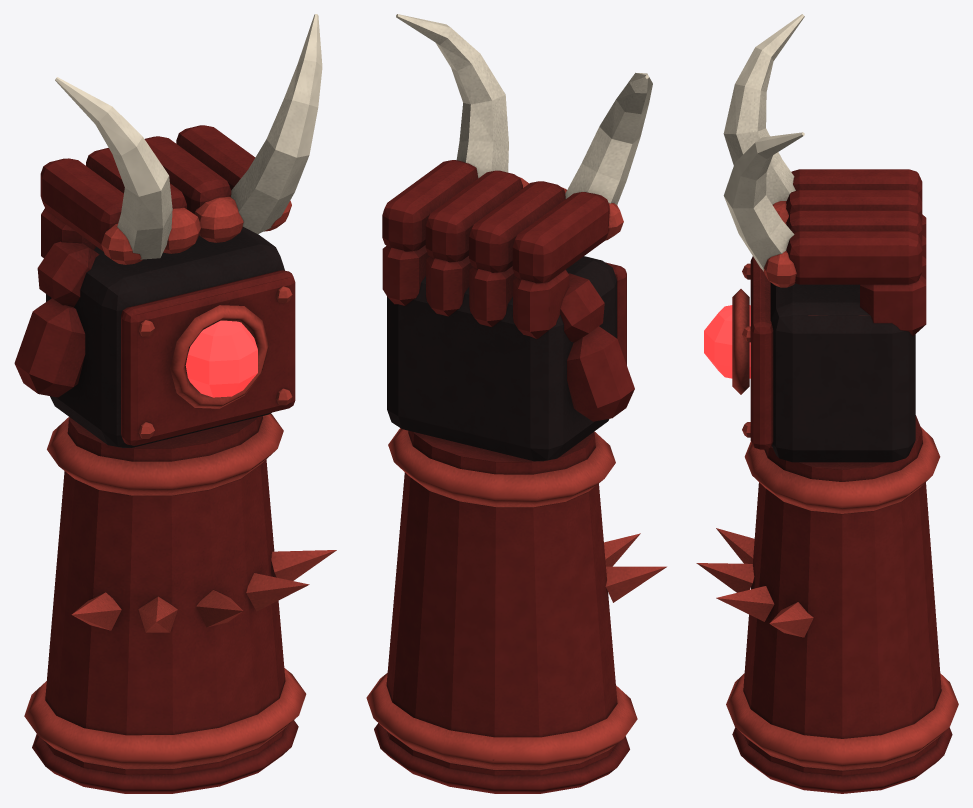
File: 07_hell_gauntlet.fbx
3 renders of one model, left to right at view 1: azimuth 30°, elevation 25°; view 2: azimuth 150°, elevation 25°; view 3: azimuth 270°, elevation 25°, orthographic. The views are drawn at different scales.
Parts seen in each view (by area): view 1: Weapon; view 2: Weapon; view 3: Weapon.
Part boxes in pixels (x1,y1,x2,y2): Weapon: [14, 14, 336, 793]; Weapon: [366, 14, 666, 793]; Weapon: [696, 14, 958, 793].
Size of the model in its own units: 19.9 by 50.4 by 17.92.
Materials: 2 (1 with a texture image).
